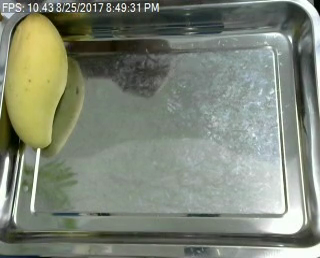Mango: (5, 12, 69, 144)
